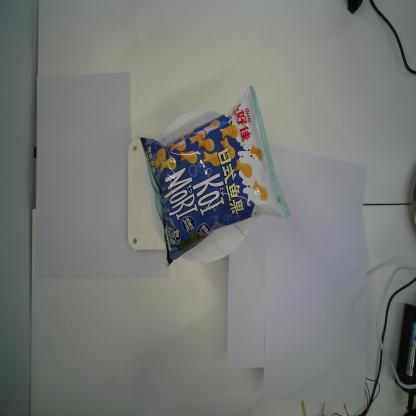Puffed Food: (139, 84, 291, 269)
